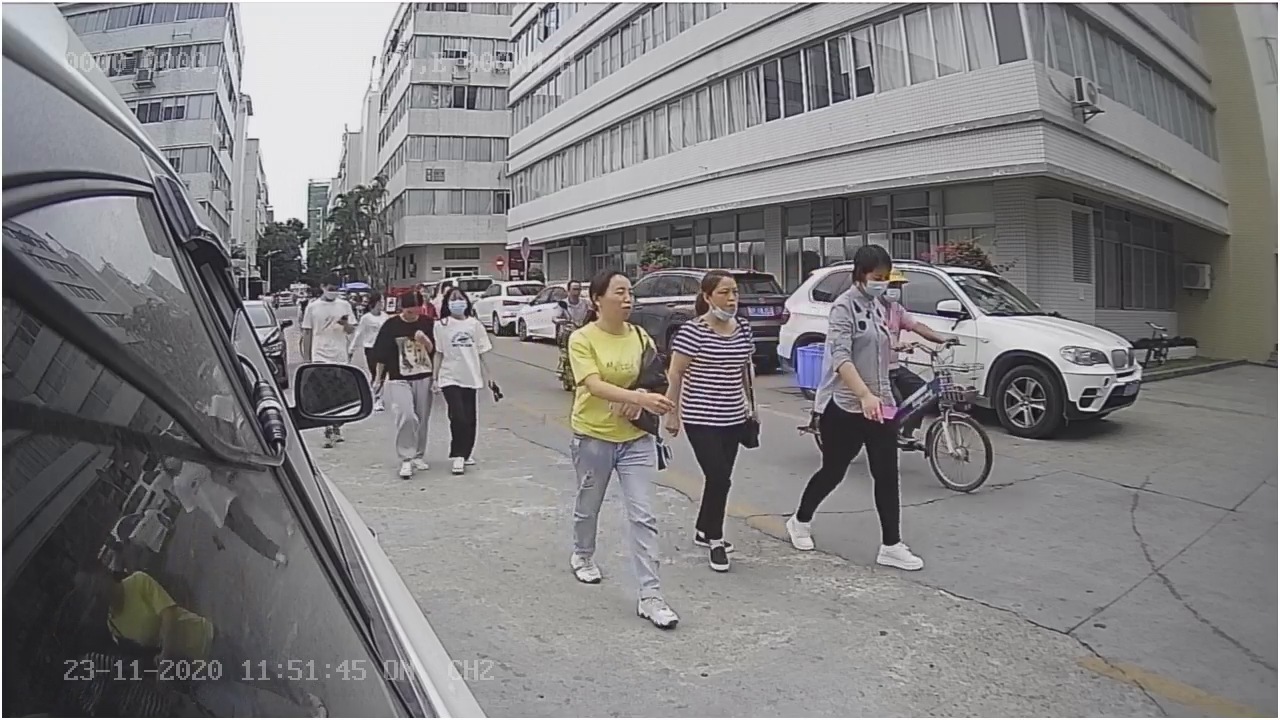person: (783, 244, 934, 579), (556, 266, 690, 628), (433, 284, 506, 476)
